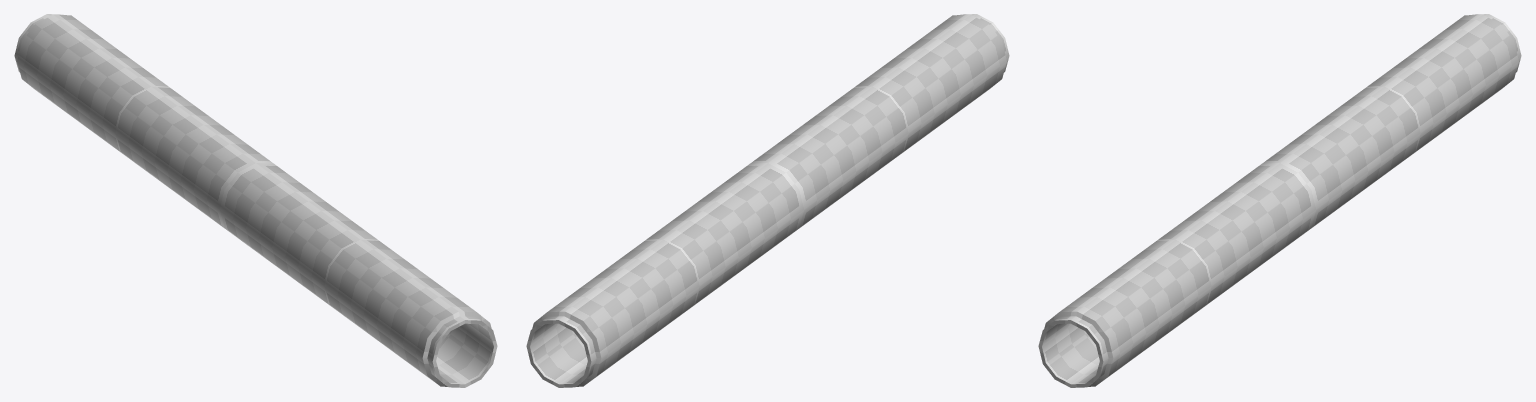
The model's file is PipesSingle.fbx.
The picture shows the model from 3 angles, left to right: view 1: azimuth 30°, elevation 25°; view 2: azimuth 150°, elevation 25°; view 3: azimuth 330°, elevation 25°; orthographic projection.
Parts seen in each view (by area): view 1: PipesSingle; view 2: PipesSingle; view 3: PipesSingle.
Part boxes in pixels (<box>): PipesSingle: <box>14,14,497,387</box>; PipesSingle: <box>526,14,1009,387</box>; PipesSingle: <box>1038,14,1521,387</box>.
Bounding box in the file's own units: 40 × 40 × 400.
